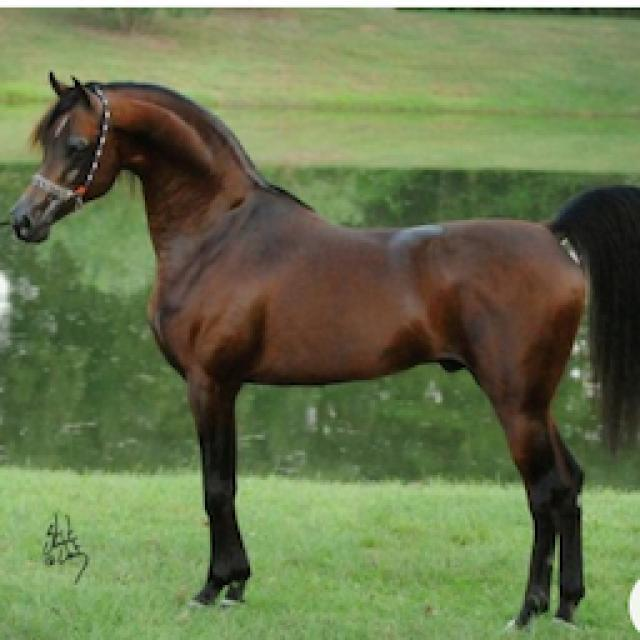Horse: (0, 62, 638, 638)
